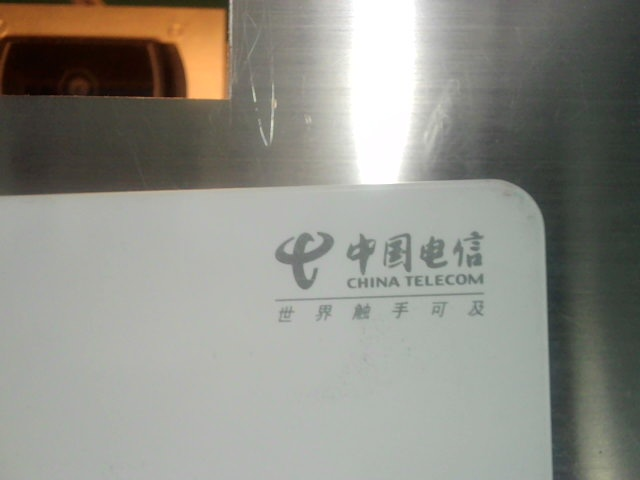AB_ChinaTelecom: (267, 226, 490, 321)
